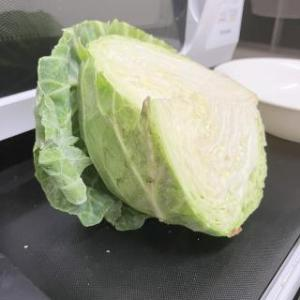cabbage: (31, 18, 268, 240)
